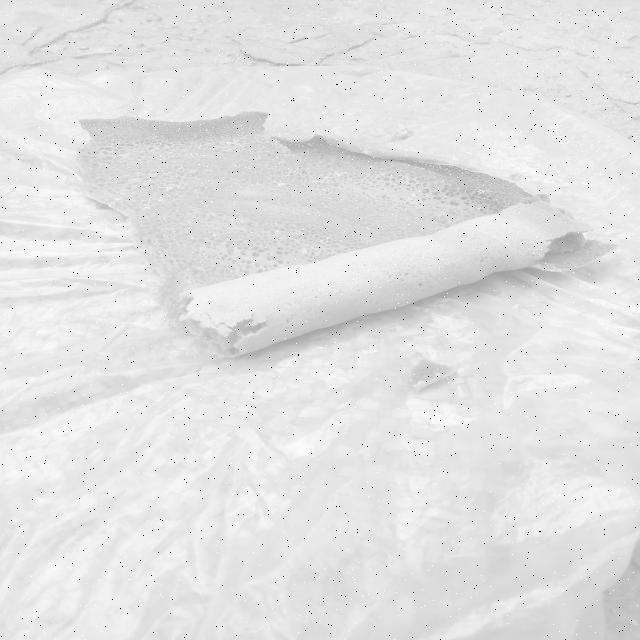injera_mold: (217, 139, 244, 151), (120, 199, 150, 209), (158, 136, 174, 148), (329, 169, 351, 177), (156, 184, 183, 190), (295, 167, 311, 177), (318, 235, 334, 244), (472, 189, 494, 195), (304, 247, 318, 255), (189, 141, 203, 149), (360, 238, 372, 245), (276, 182, 286, 187), (147, 145, 155, 150), (228, 133, 236, 138), (304, 148, 314, 152), (188, 152, 198, 156), (291, 236, 297, 242), (323, 190, 332, 194), (291, 194, 298, 198), (205, 154, 212, 158), (209, 137, 216, 140), (412, 193, 416, 197), (406, 198, 411, 200)
